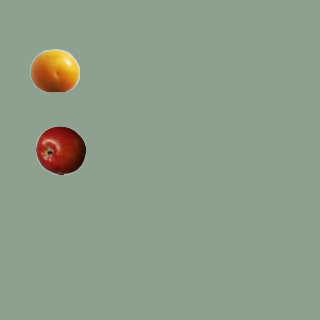Apple Braeburn: (35, 125, 85, 175)
Cherry Wax Yellow: (29, 45, 79, 95)
